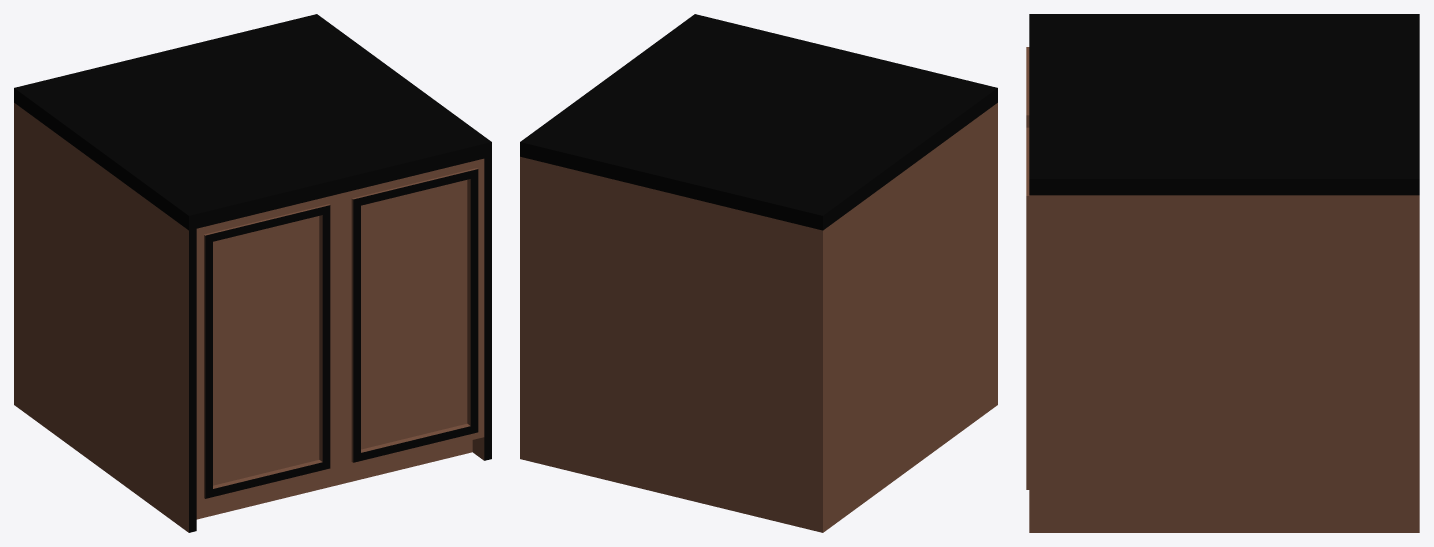
File: Wooden_Counter.fbx
3 views of the same model, side by side, from view 1: azimuth 30°, elevation 25°; view 2: azimuth 150°, elevation 25°; view 3: azimuth 270°, elevation 25° (orthographic). The views are drawn at different scales.
Parts seen in each view (by area): view 1: Wooden_Counter; view 2: Wooden_Counter; view 3: Wooden_Counter.
Part boxes in pixels (x1,y1,x2,y2): Wooden_Counter: (14,14,491,532); Wooden_Counter: (520,14,997,532); Wooden_Counter: (1026,14,1419,532).
Size of the model in its own units: 1 by 1 by 1.01.
